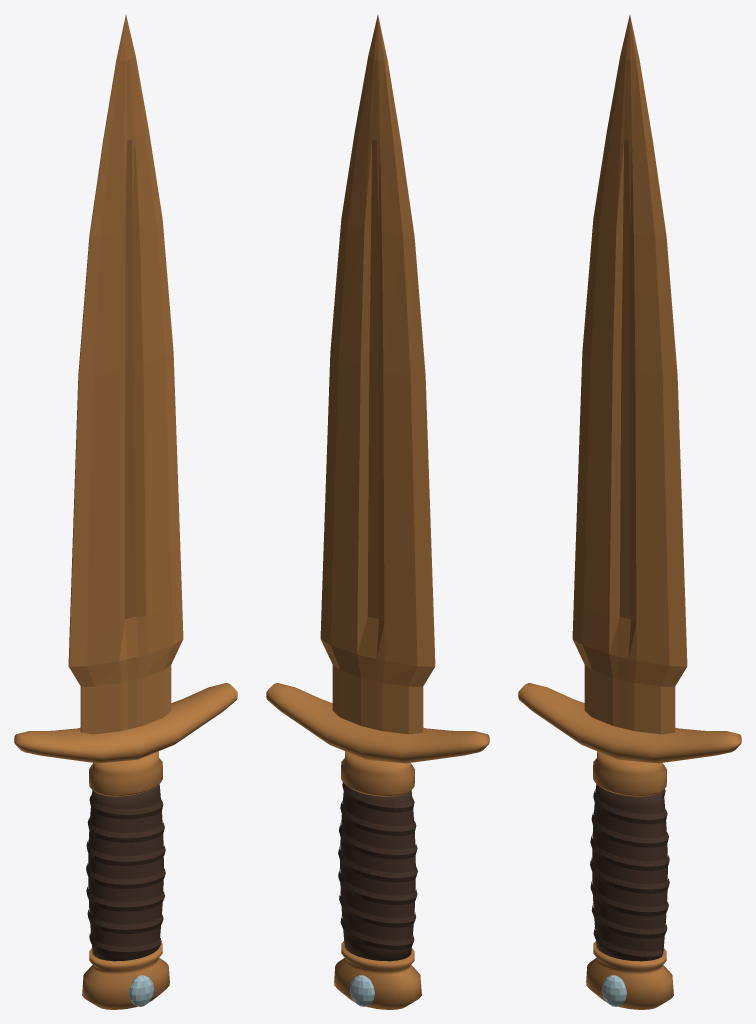
File: corealm_dagger_1.glb
The picture shows the model from 3 angles, left to right: view 1: azimuth 30°, elevation 25°; view 2: azimuth 150°, elevation 25°; view 3: azimuth 330°, elevation 25°; orthographic projection.
Visible parts, largest first — view 1: equipment-dagger-blade, equipment-dagger-metal, equipment-dagger-leather, equipment-dagger-gem; view 2: equipment-dagger-blade, equipment-dagger-metal, equipment-dagger-leather, equipment-dagger-gem; view 3: equipment-dagger-blade, equipment-dagger-metal, equipment-dagger-leather, equipment-dagger-gem.
Part boxes in pixels (x1=…): equipment-dagger-blade: x1=68, y1=15, x2=183, y2=734; equipment-dagger-metal: x1=14, y1=683, x2=237, y2=1009; equipment-dagger-leather: x1=86, y1=784, x2=165, y2=961; equipment-dagger-gem: x1=129, y1=975, x2=154, y2=1006; equipment-dagger-blade: x1=320, y1=15, x2=435, y2=734; equipment-dagger-metal: x1=266, y1=683, x2=489, y2=1009; equipment-dagger-leather: x1=338, y1=782, x2=417, y2=961; equipment-dagger-gem: x1=349, y1=975, x2=374, y2=1006; equipment-dagger-blade: x1=572, y1=15, x2=687, y2=734; equipment-dagger-metal: x1=518, y1=683, x2=741, y2=1009; equipment-dagger-leather: x1=590, y1=784, x2=669, y2=961; equipment-dagger-gem: x1=601, y1=975, x2=626, y2=1006.
Size of the model in its own units: 0.18 by 0.778 by 0.056.
